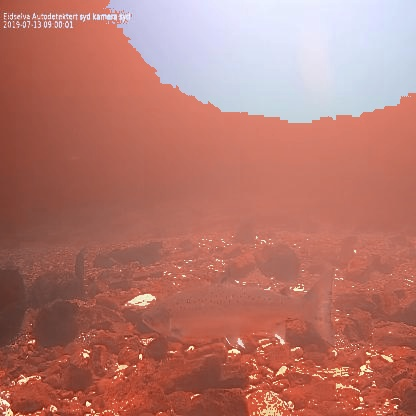salmon: (138, 264, 340, 352)
